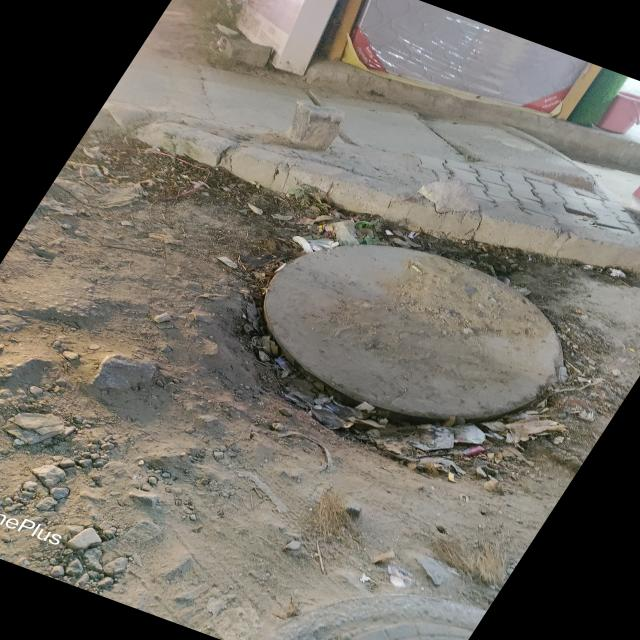manhole: (243, 208, 579, 460)
